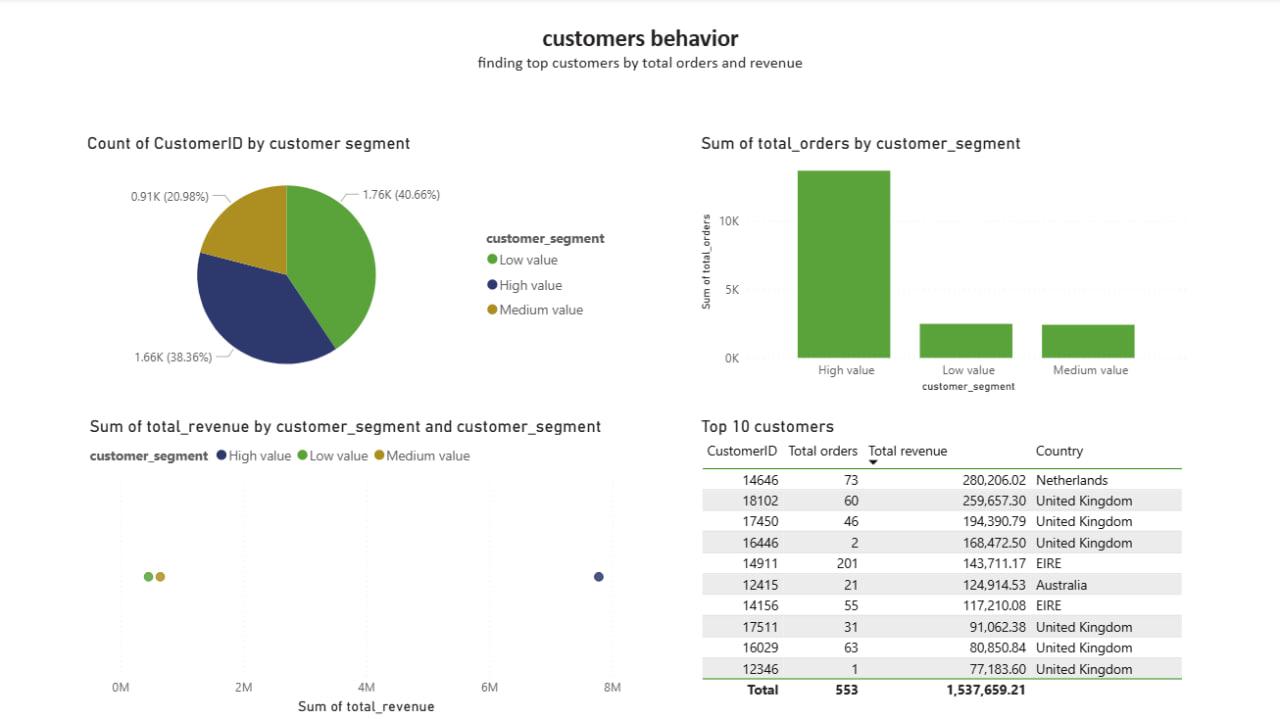

What the dashboard file says about the page in this screenshot:
{"tool":"powerbi","page":{"name":"Customer","canvas":[1280,720],"ordinal":1},"visuals":[{"type":"textbox","box":[0,19.2,1280.3,71.4],"z":0},{"type":"pieChart","title":"Count of CustomerID by customer segment","fields":{"Category":["online_retail vw_customer_segmentation.customer_segment"],"Y":["CountNonNull(online_retail vw_customer_segmentation.CustomerID)"]},"box":[83.7,134.5,542,264.8],"z":1000},{"type":"tableEx","title":"Top 10 customers","fields":{"Values":["online_retail vw_customer_segmentation.CustomerID","Sum(online_retail vw_customer_segmentation.total_orders)","Sum(online_retail vw_customer_segmentation.total_revenue)","online_retail vw_retail_sales.Country"]},"box":[695.7,417.2,496.7,303.3],"z":2000},{"type":"clusteredColumnChart","fields":{"Category":["online_retail vw_customer_segmentation.customer_segment"],"Y":["Sum(online_retail vw_customer_segmentation.total_orders)"]},"box":[695.7,134.5,496.7,264.8],"z":3000},{"type":"scatterChart","fields":{"Category":["online_retail vw_customer_segmentation.customer_segment"],"X":["Sum(online_retail vw_customer_segmentation.total_revenue)"],"Series":["online_retail vw_customer_segmentation.customer_segment"]},"box":[85.1,417.2,540.7,303.3],"z":4000}]}

Visuals, with their boxes in screenshot pixels (x1, y1, x2, y2), scaled from the page's 1280x720 canvas onto the 1280x719 screenshot:
textbox: left=0, top=19, right=1279, bottom=90
"Count of CustomerID by customer segment" pieChart: left=84, top=134, right=626, bottom=399
"Top 10 customers" tableEx: left=696, top=417, right=1192, bottom=718
clusteredColumnChart - online_retail vw_customer_segmentation.customer_segment x Sum(online_retail vw_customer_segmentation.total_orders): left=696, top=134, right=1192, bottom=399
scatterChart - online_retail vw_customer_segmentation.customer_segment x Sum(online_retail vw_customer_segmentation.total_revenue): left=85, top=417, right=626, bottom=718
